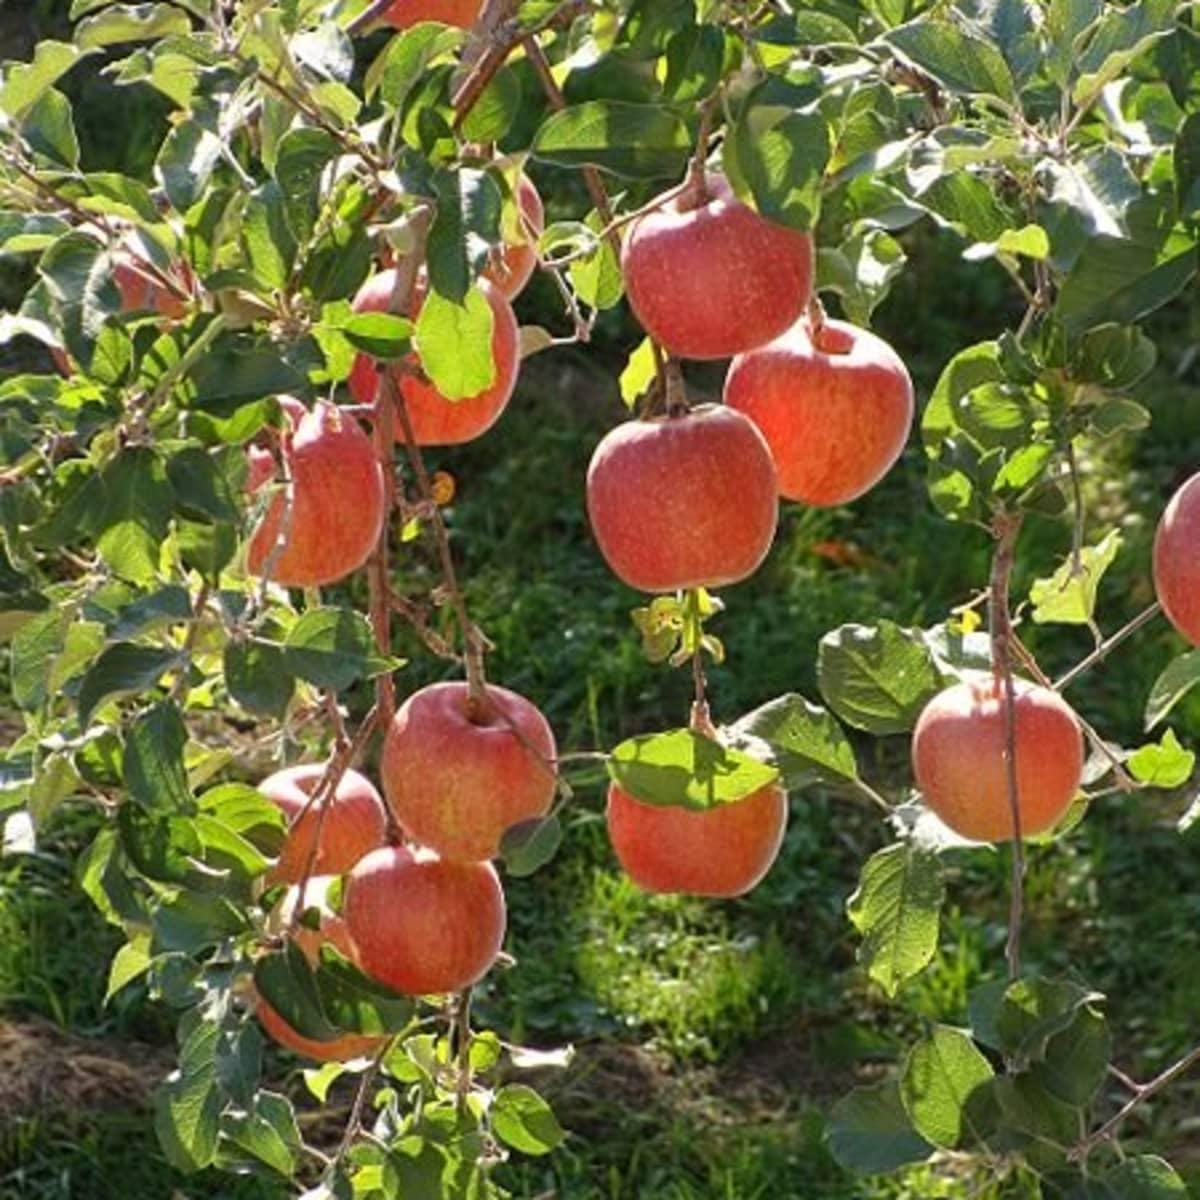apple: (618, 170, 816, 363), (584, 400, 779, 591), (381, 675, 569, 866), (720, 316, 905, 505), (343, 260, 521, 448), (602, 727, 787, 900), (901, 684, 1091, 844), (369, 144, 542, 301), (246, 399, 384, 587), (342, 838, 511, 990), (255, 766, 385, 873)
